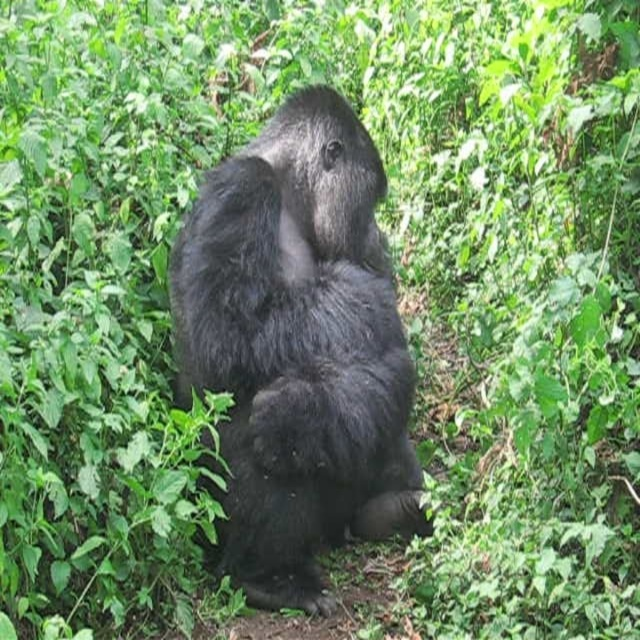Monkey: (170, 87, 431, 620)
